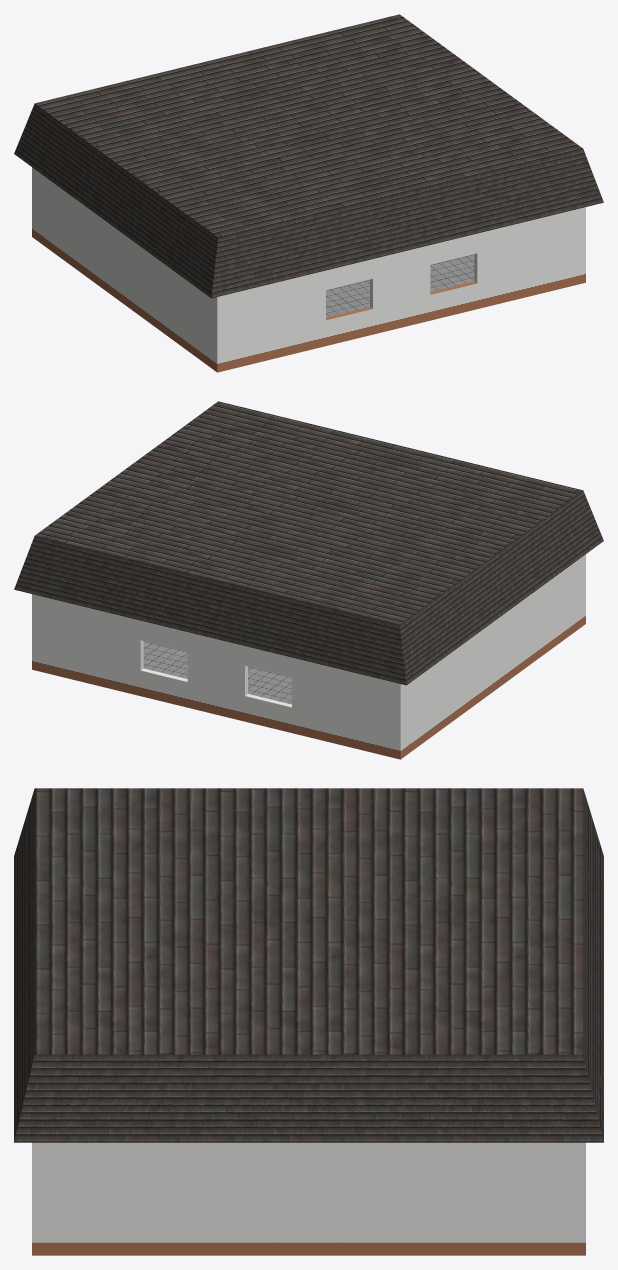
File: house.FBX
3 renders of one model, top to bottom at view 1: azimuth 30°, elevation 25°; view 2: azimuth 150°, elevation 25°; view 3: azimuth 270°, elevation 25°, orthographic. The views are drawn at different scales.
Parts seen in each view (by area): view 1: Box002, Box001; view 2: Box002, Box001; view 3: Box002, Box001.
Boxes of the visible parts, x1,y1,x2,y2 form: Box002: (14, 14, 603, 298); Box001: (32, 167, 585, 372); Box002: (14, 401, 603, 685); Box001: (32, 554, 585, 759); Box002: (14, 788, 603, 1142); Box001: (32, 1142, 585, 1255).
Size of the model in its own units: 58.43 by 50.9 by 19.03.
Materials: 4 (3 with a texture image).
